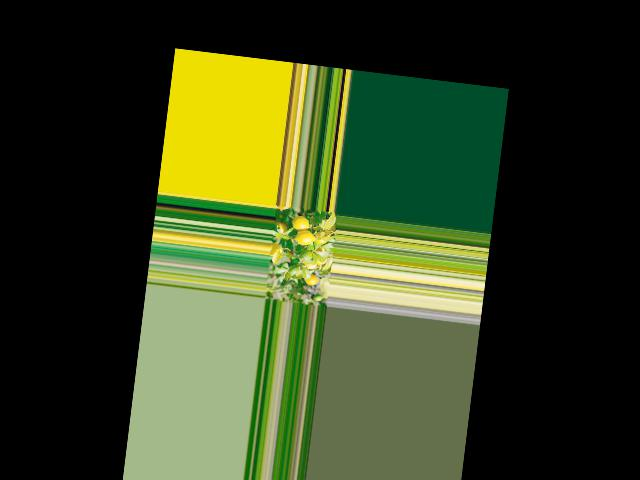lemon: (301, 273, 320, 289)
